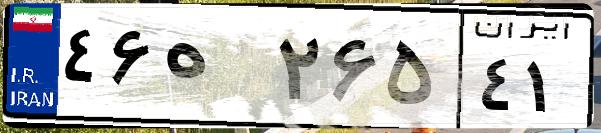1: (525, 38, 570, 115)
2: (270, 28, 330, 110)
4: (57, 26, 110, 100), (475, 38, 525, 113)
5: (385, 28, 445, 110)
6: (330, 28, 385, 110), (110, 28, 158, 98)
ه: (158, 20, 270, 120)
